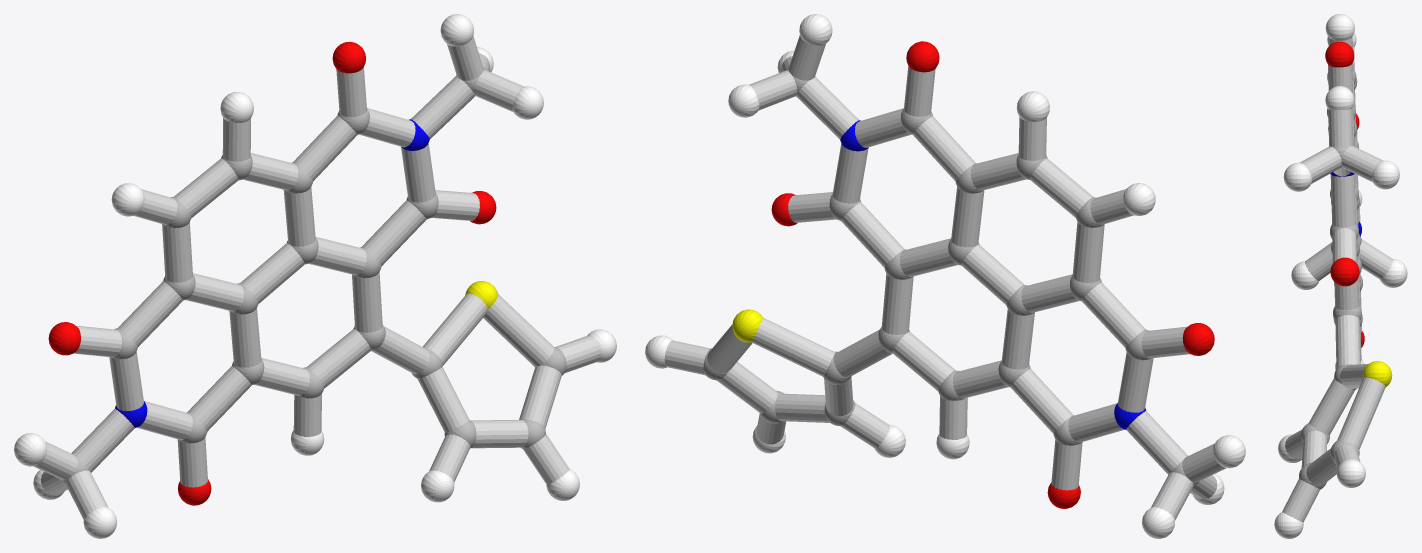
The model's file is Dimethyl_Naphthalene_Dicarboximide_Phi_15_Theta_150_Thiophene.glb.
The picture shows the model from 3 angles, left to right: view 1: azimuth 30°, elevation 25°; view 2: azimuth 150°, elevation 25°; view 3: azimuth 270°, elevation 25°; orthographic projection. The views are drawn at different scales.
Parts seen in each view (by area): view 1: grp14119, grp7241, grp1, grp12309, grp11585; view 2: grp14119, grp7241, grp1, grp12309, grp11585, grp13757; view 3: grp14119, grp7241, grp1, grp12309, grp13757.
Boxes of the visible parts, bbox=[...] form: grp14119: bbox=[33, 36, 600, 519]; grp7241: bbox=[14, 14, 616, 538]; grp1: bbox=[60, 67, 566, 484]; grp12309: bbox=[48, 41, 496, 505]; grp11585: bbox=[115, 119, 429, 427]; grp14119: bbox=[664, 35, 1226, 520]; grp7241: bbox=[645, 14, 1245, 538]; grp1: bbox=[703, 67, 1198, 486]; grp12309: bbox=[771, 41, 1214, 508]; grp11585: bbox=[840, 120, 1146, 429]; grp13757: bbox=[732, 309, 762, 342]; grp14119: bbox=[1282, 36, 1393, 522]; grp7241: bbox=[1274, 14, 1407, 538]; grp1: bbox=[1299, 69, 1362, 489]; grp12309: bbox=[1325, 41, 1364, 347]; grp13757: bbox=[1363, 361, 1392, 386].
Bounding box in the file's own units: 12.38 × 9.48 × 2.74.
